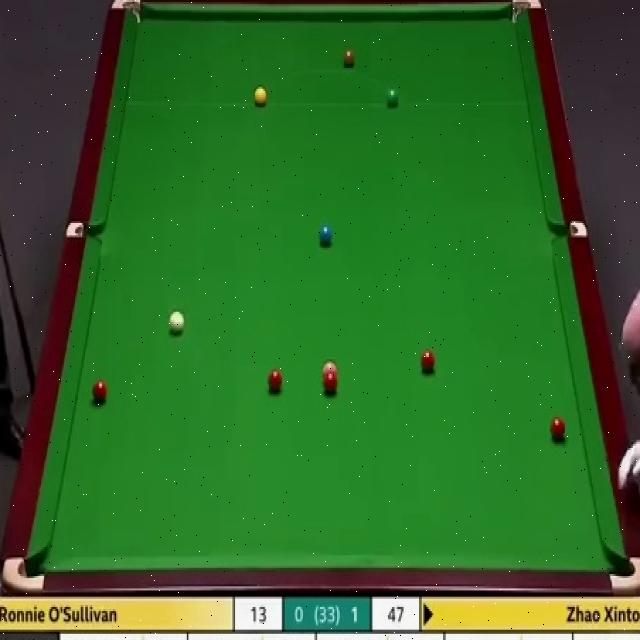blue-ball: (318, 223, 334, 246)
brown-ball: (342, 48, 355, 69)
green-ball: (385, 86, 399, 107)
pink-ball: (322, 361, 338, 376)
red-ball: (92, 377, 108, 405), (550, 418, 567, 441), (420, 349, 435, 374), (267, 370, 283, 392), (322, 373, 338, 394)
white-ball: (168, 310, 185, 336)
yellow-ball: (256, 88, 269, 108)
